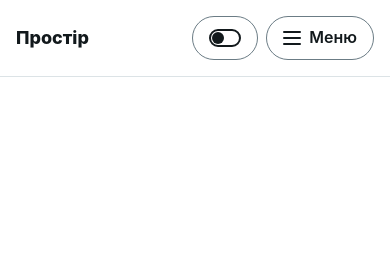
Scenario: Header › Esc закриває відкрите меню
Click the button "Меню" at [320, 38], box left=266, top=16, right=374, bottom=60
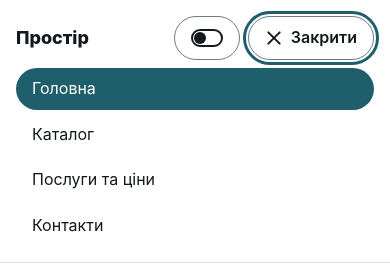
Press Escape
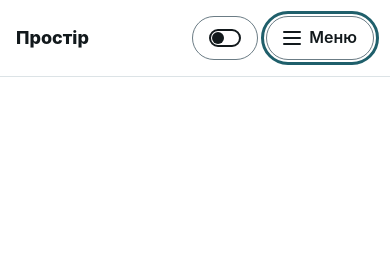
Expected: the button "Меню" is collapsed, left=266, top=16, right=374, bottom=60
